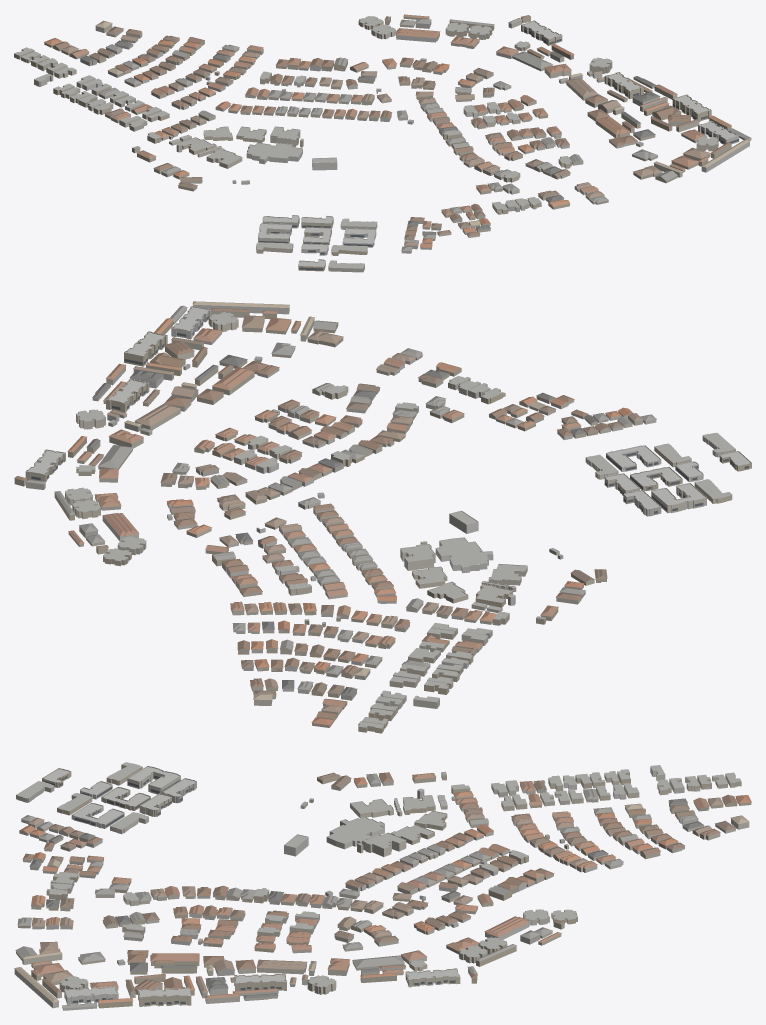
File: buildings_r2_c5.glb
The picture shows the model from 3 angles, top to bottom: view 1: azimuth 30°, elevation 25°; view 2: azimuth 150°, elevation 25°; view 3: azimuth 270°, elevation 25°; orthographic projection. The views are drawn at different scales.
Visible parts, largest first — view 1: buildings_r2_c5; view 2: buildings_r2_c5; view 3: buildings_r2_c5.
Part boxes in pixels (left/top/right/bottom): buildings_r2_c5: left=14, top=14, right=751, bottom=272; buildings_r2_c5: left=14, top=301, right=751, bottom=733; buildings_r2_c5: left=14, top=762, right=751, bottom=1010.
Size of the model in its own units: 685 by 41.92 by 803.
